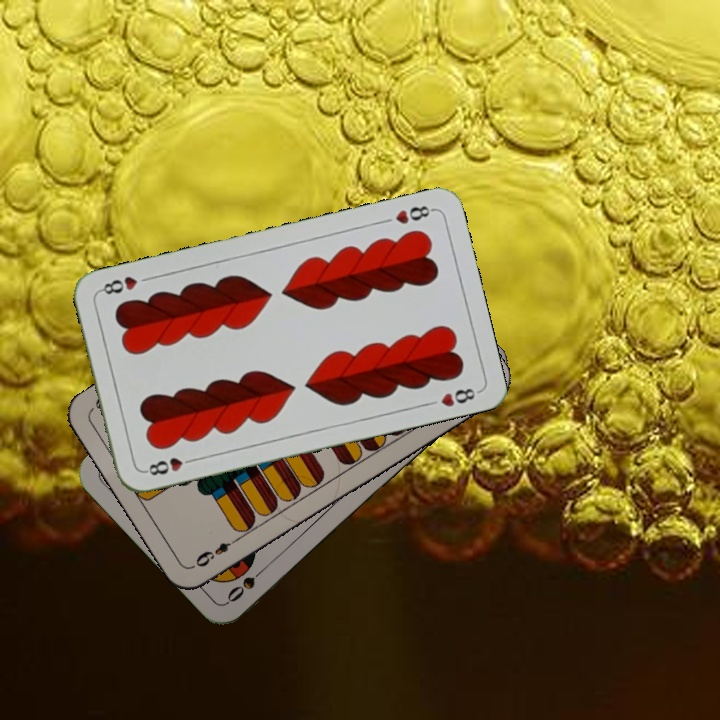E9: (191, 533, 242, 570)
H8: (140, 453, 199, 478), (391, 201, 437, 227)
SO: (223, 560, 271, 605)
